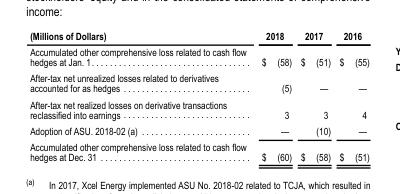table: (29, 29, 368, 162)
table column: (29, 29, 253, 162), (253, 29, 295, 162), (295, 29, 334, 162), (334, 29, 368, 162)
table column header: (29, 29, 368, 43)
table row: (29, 95, 368, 122), (29, 43, 368, 69), (29, 69, 368, 95), (29, 138, 368, 162), (29, 122, 368, 138), (29, 29, 368, 43)
